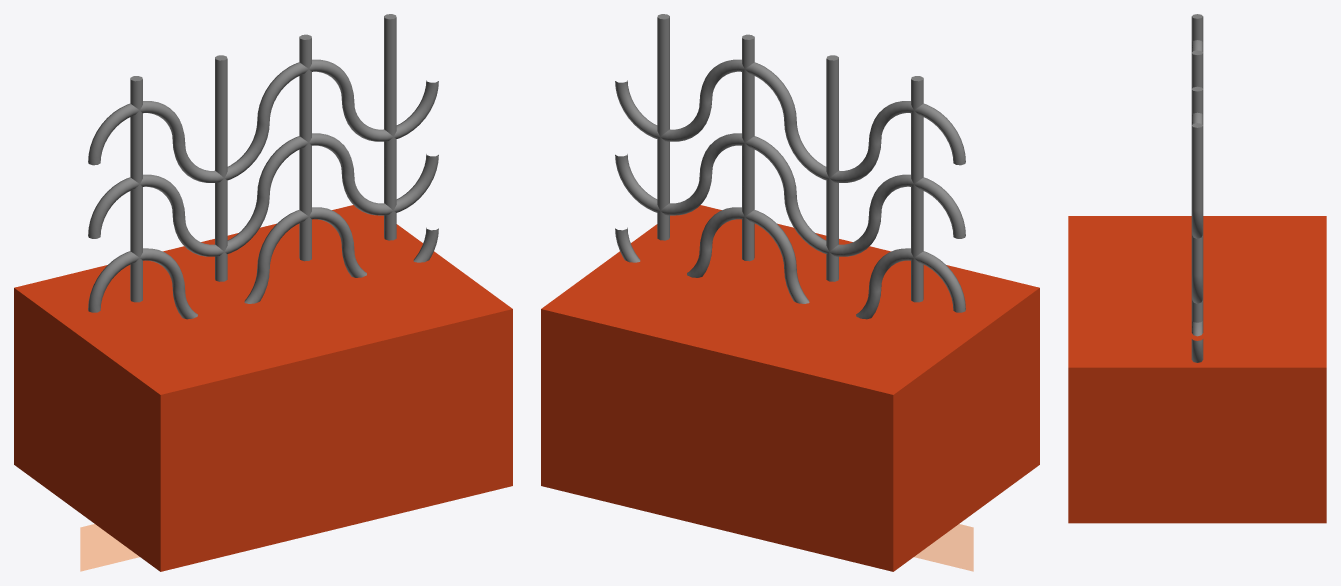
File: superheater.glb
3 views of the same model, side by side, from view 1: azimuth 30°, elevation 25°; view 2: azimuth 150°, elevation 25°; view 3: azimuth 270°, elevation 25° (orthographic). The views are drawn at different scales.
Size of the model in its own units: 2.6 by 3.25 by 1.8.
